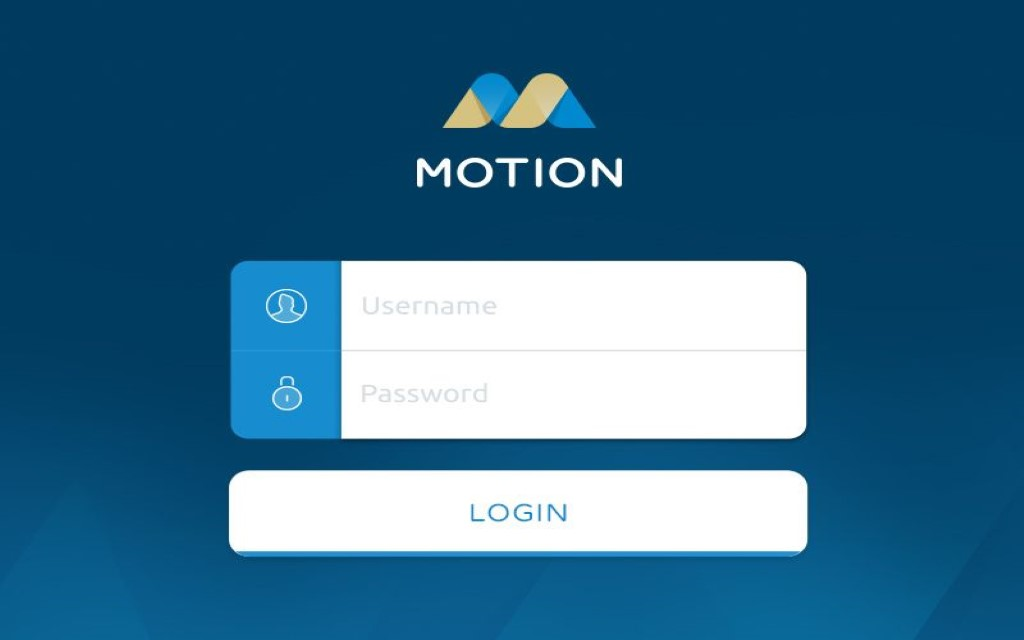button: (228, 469, 809, 557)
button_login: (229, 469, 813, 558)
label_Login: (467, 501, 571, 525)
label_Username: (360, 293, 498, 319)
label_password: (357, 380, 490, 408)
textbox: (341, 350, 807, 439), (341, 262, 805, 349)
textbox_Password: (341, 349, 806, 439)
textbox_username: (342, 262, 808, 347)
